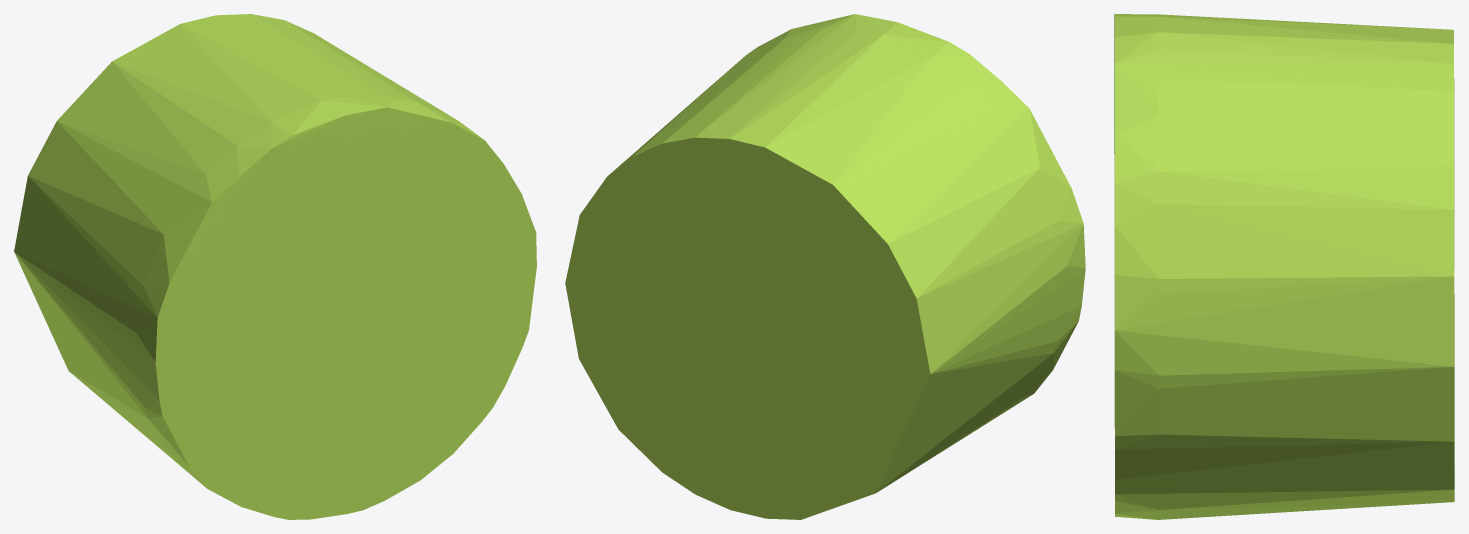
The model's file is ur10_e_link_3_coll_6.dae.
3 views of the same model, side by side, from view 1: azimuth 30°, elevation 25°; view 2: azimuth 150°, elevation 25°; view 3: azimuth 270°, elevation 25° (orthographic). The views are drawn at different scales.
Visible parts, largest first — view 1: node; view 2: node; view 3: node.
Boxes of the visible parts, x1=… form: node: x1=14, y1=14, x2=536, y2=519; node: x1=565, y1=14, x2=1085, y2=519; node: x1=1114, y1=14, x2=1454, y2=519.
Size of the model in its own units: 0.1159 by 0.1161 by 0.0782.
